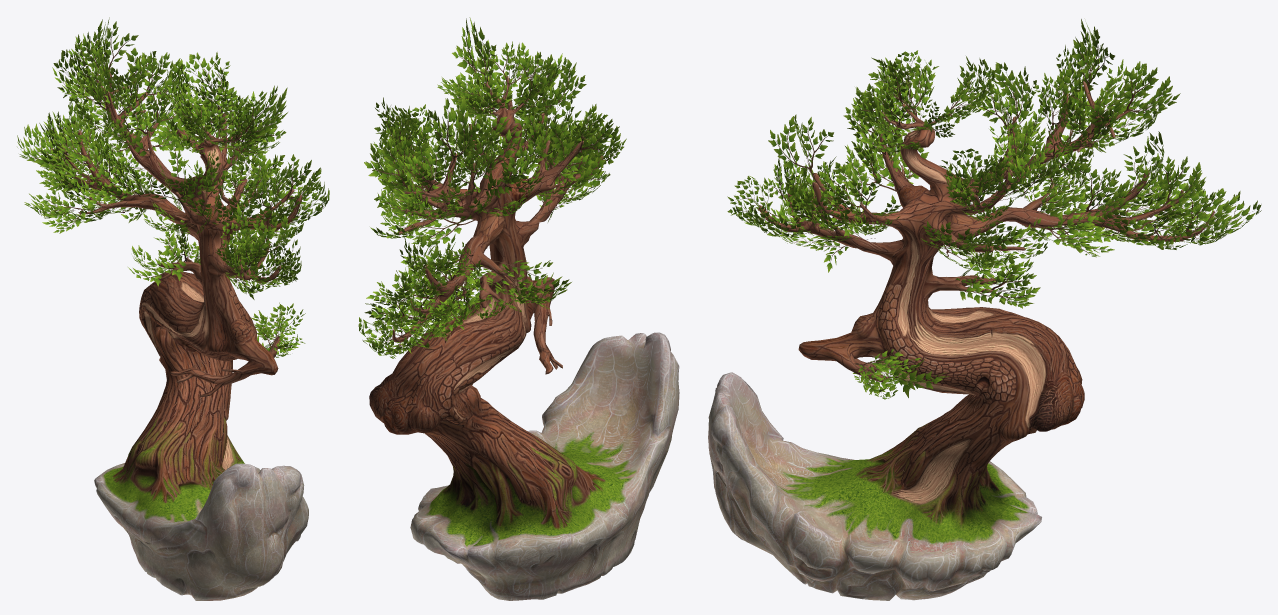
The model's file is bonsai_tree.glb.
The picture shows the model from 3 angles, left to right: view 1: azimuth 30°, elevation 25°; view 2: azimuth 150°, elevation 25°; view 3: azimuth 270°, elevation 25°; orthographic projection. The views are drawn at different scales.
Parts seen in each view (by area): view 1: object 1, Crown; view 2: object 1, Crown; view 3: object 1, Crown.
Part boxes in pixels (box(x1,y1,x2,y2)): object 1: box(50, 72, 308, 600); Crown: box(17, 17, 329, 357); object 1: box(369, 76, 679, 600); Crown: box(358, 17, 626, 358); object 1: box(708, 81, 1214, 600); Crown: box(727, 19, 1261, 399).
Bounding box in the file's own units: 237 × 504 × 459.
2 materials, 2 textured.
